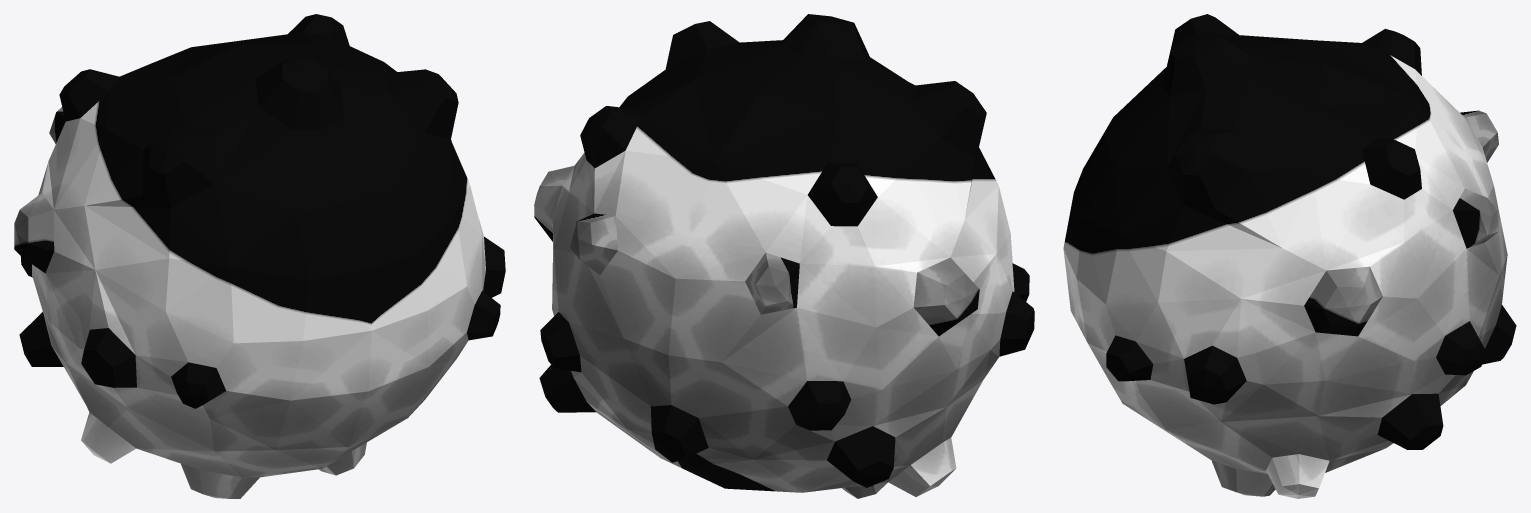
The model's file is 0106_Mesh_wasidan_03.glb.
3 renders of one model, left to right at view 1: azimuth 30°, elevation 25°; view 2: azimuth 150°, elevation 25°; view 3: azimuth 270°, elevation 25°, orthographic. The views are drawn at different scales.
Bounding box in the file's own units: 2.2 × 2.16 × 2.06.
Materials: 1 (1 with a texture image).
